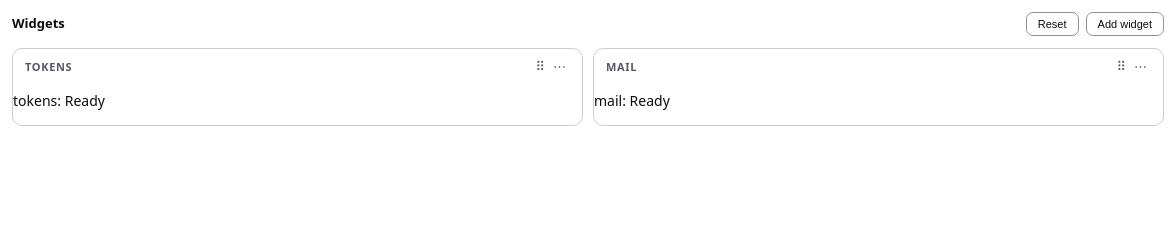
Test: persists keyboard ordering and retains the saved layout on errors
The image size is (1176, 225).
Press ArrowUp in the button named "Reorder mail", box [1112,59,1130,74]
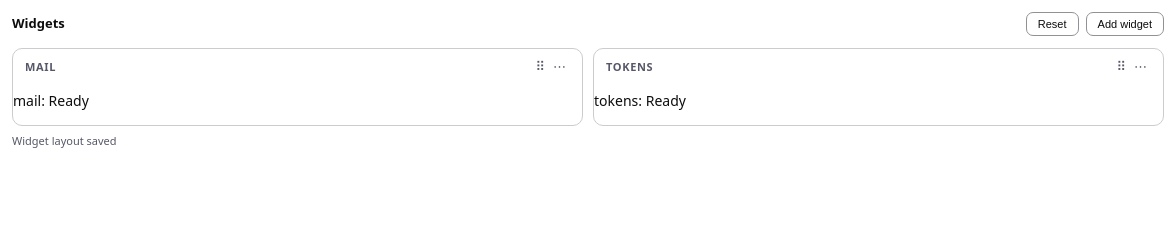
Click the button "Reset": {"x": 1052, "y": 24} [1026,12,1079,36]
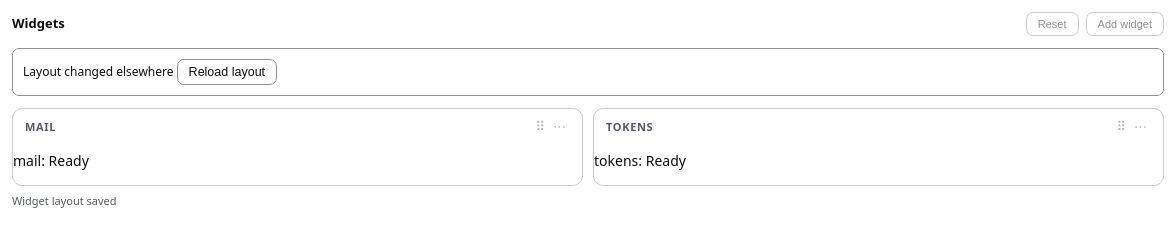
Check: the message "Layout changed elsewhere Reload layout" is shown, box [12,48,1164,96]
